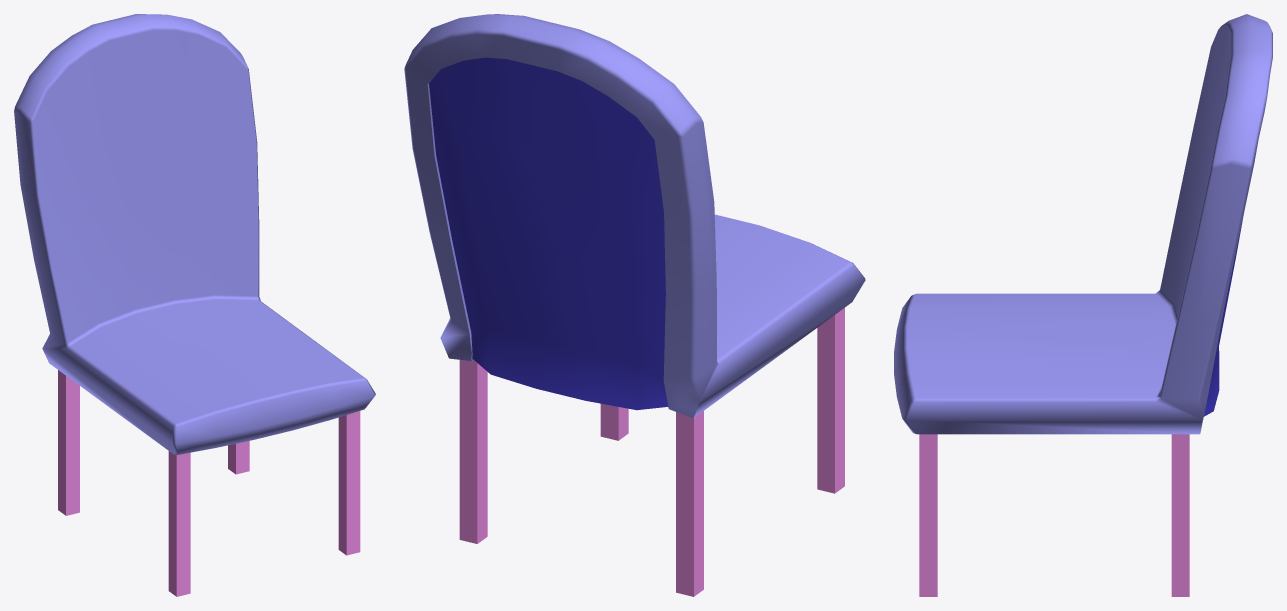
File: Chair_Desk.fbx
The picture shows the model from 3 angles, left to right: view 1: azimuth 30°, elevation 25°; view 2: azimuth 150°, elevation 25°; view 3: azimuth 270°, elevation 25°; orthographic projection. The views are drawn at different scales.
Visible parts, largest first — view 1: Chair_Desk; view 2: Chair_Desk; view 3: Chair_Desk.
Part boxes in pixels (x1,y1,x2,y2): Chair_Desk: [14, 14, 375, 596]; Chair_Desk: [404, 14, 865, 596]; Chair_Desk: [894, 14, 1272, 596].
Size of the model in its own units: 82.34 by 156 by 105.
